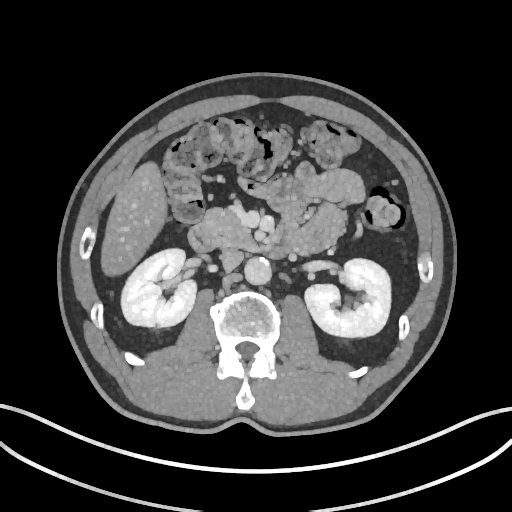Lesion: (151, 321, 160, 328)
